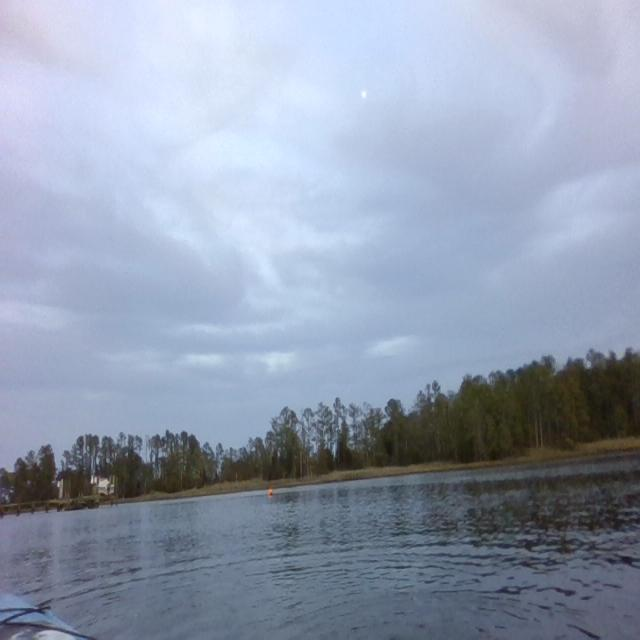Buoy: (266, 484, 275, 501)
